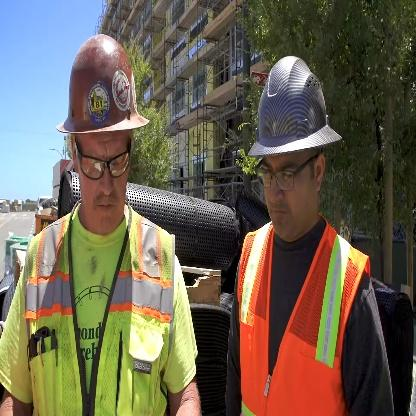helmet: (224, 42, 335, 236), (57, 24, 143, 237)
